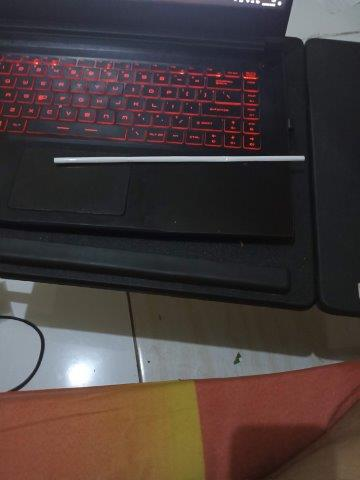sedotan: (53, 156, 305, 164)
